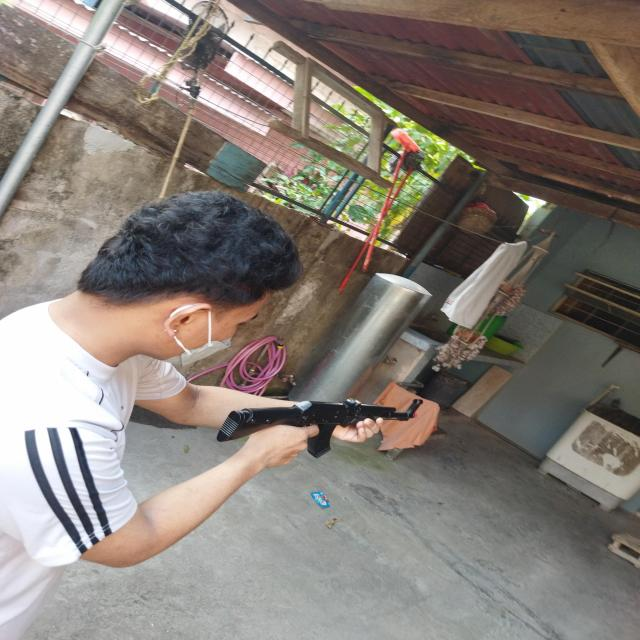rifle: (217, 399, 424, 458)
